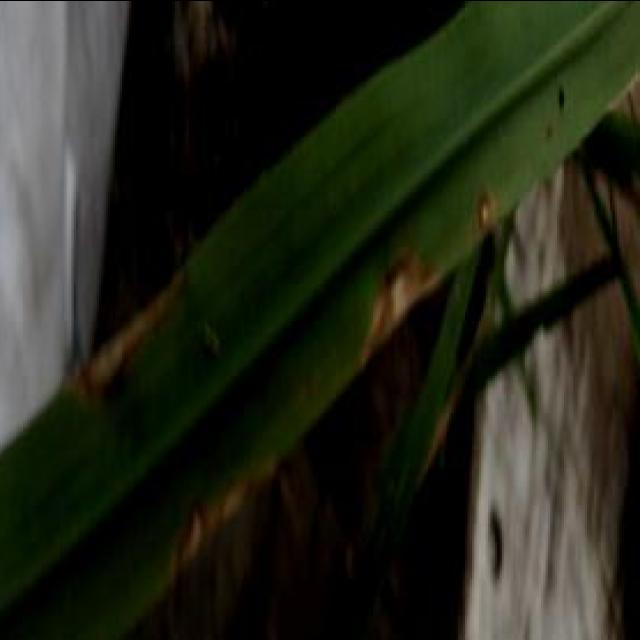Leaf_Blast: (51, 274, 207, 419), (145, 446, 267, 592), (346, 221, 456, 382), (452, 166, 532, 270)
